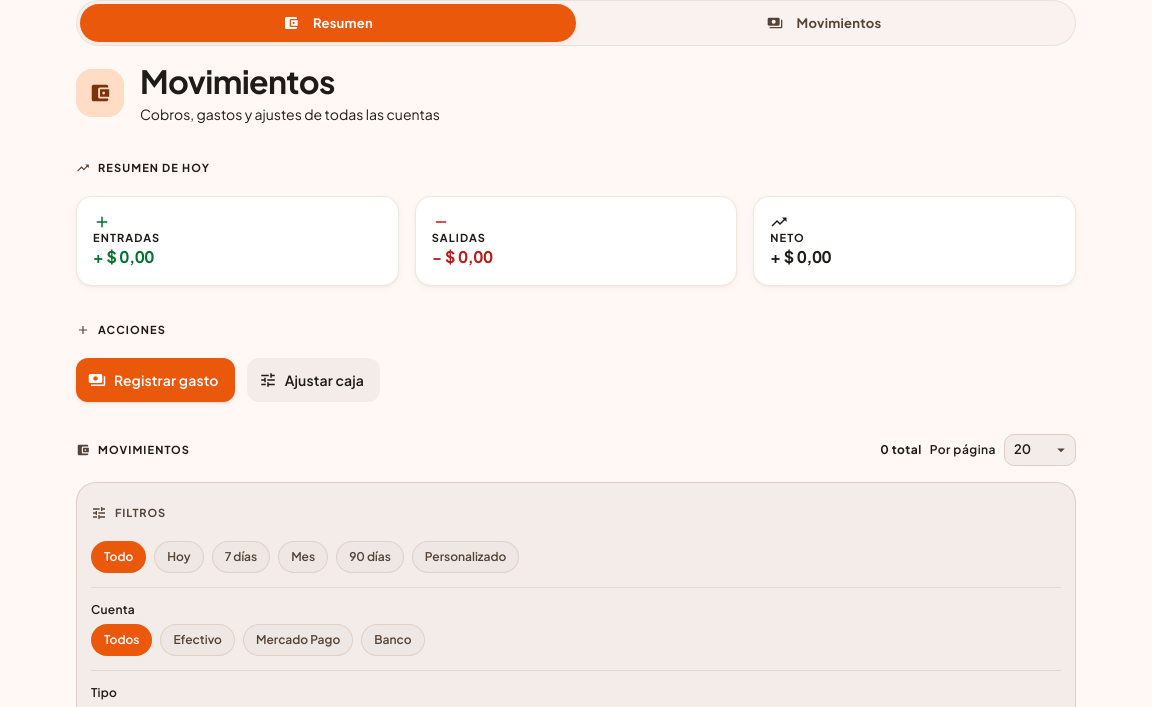
Test: CajaPage › opens the "Ajustar caja" dialog
Click the button "Ajustar caja".
click(313, 380)  # box 247,358 -> 380,402
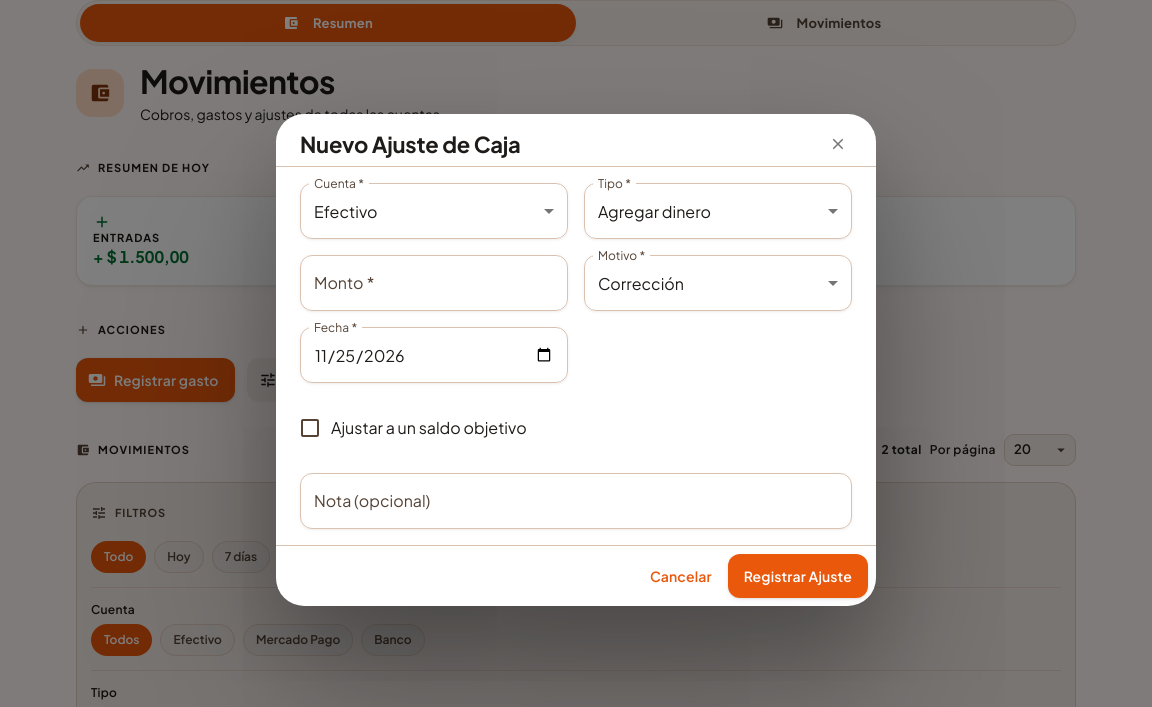
Result: the heading "Nuevo Ajuste de Caja" is shown at 300,130 -> 852,158
